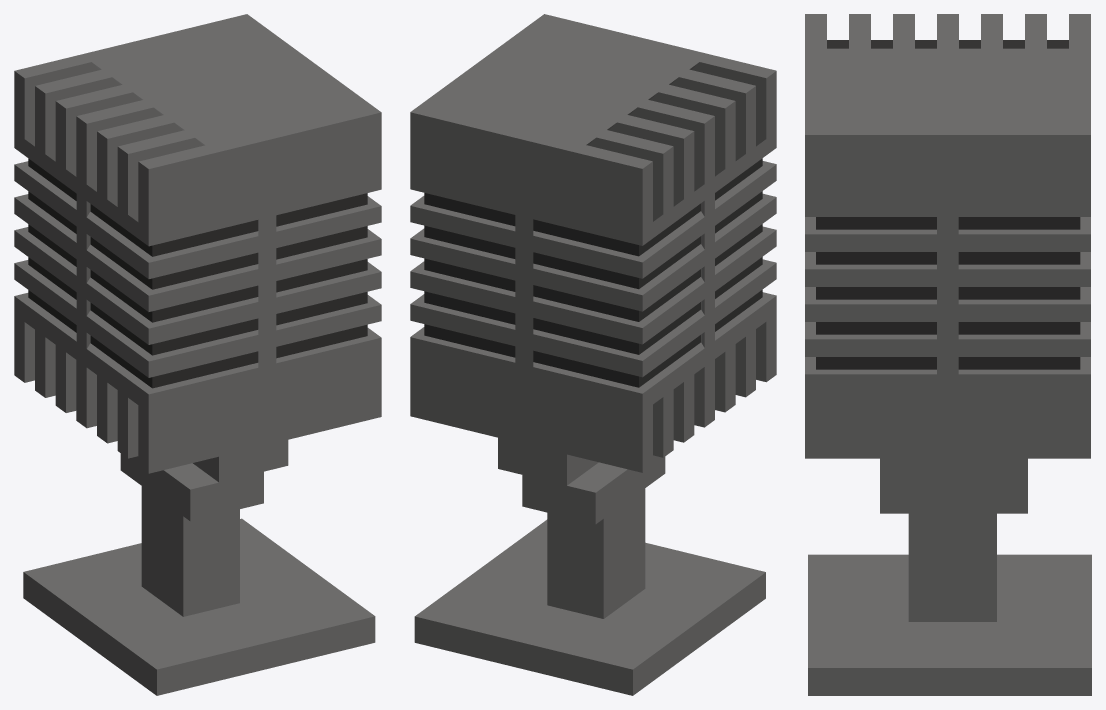
Rendered from 마이크.fbx.
3 renders of one model, left to right at view 1: azimuth 30°, elevation 25°; view 2: azimuth 150°, elevation 25°; view 3: azimuth 270°, elevation 25°, orthographic. The views are drawn at different scales.
Visible parts, largest first — view 1: Box002; view 2: Box002; view 3: Box002.
Part boxes in pixels (x1,y1,x2,y2): Box002: (14,14,381,695); Box002: (410,14,776,695); Box002: (805,14,1091,695).
Bounding box in the file's own units: 14.94 × 32.5 × 14.98.
1 material, 1 textured.
